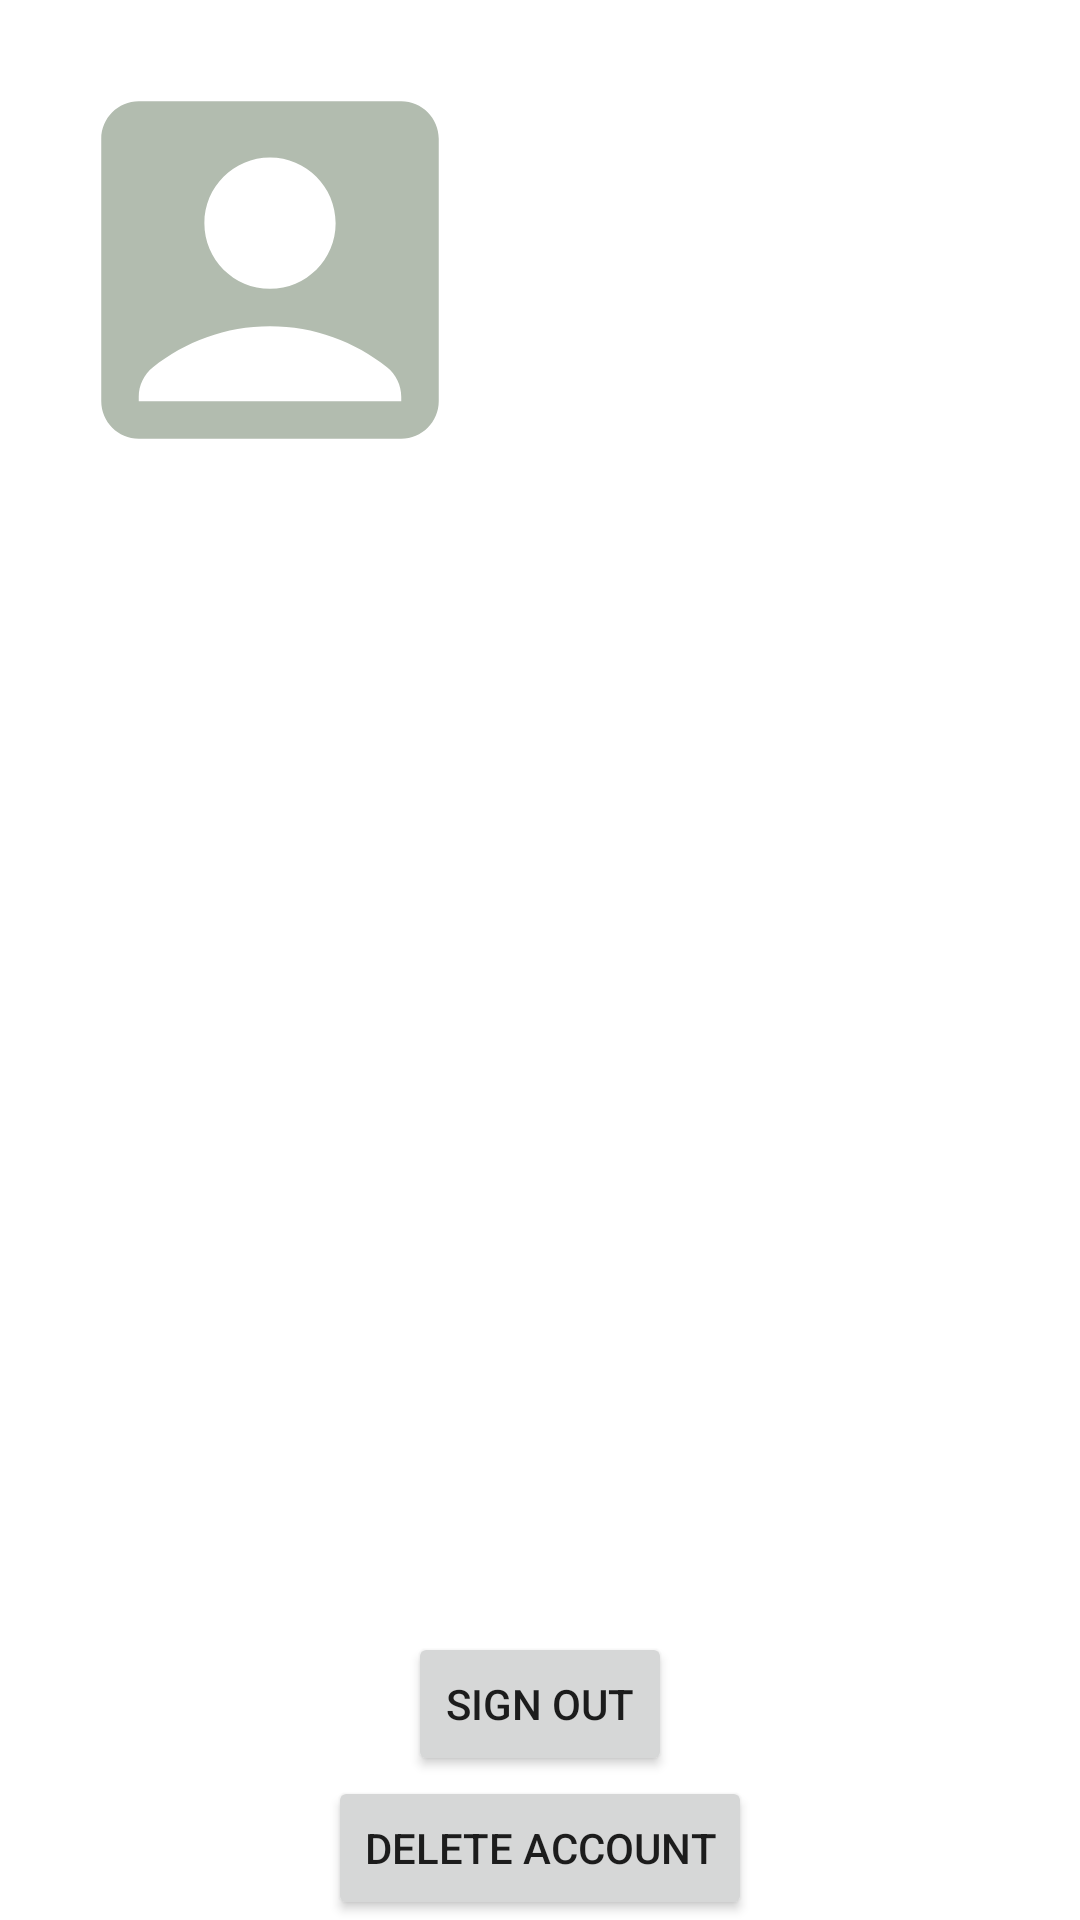

Named icons in this screenshot (1080x1920) and their centers, point (x, y):
account box: point (270, 270)
